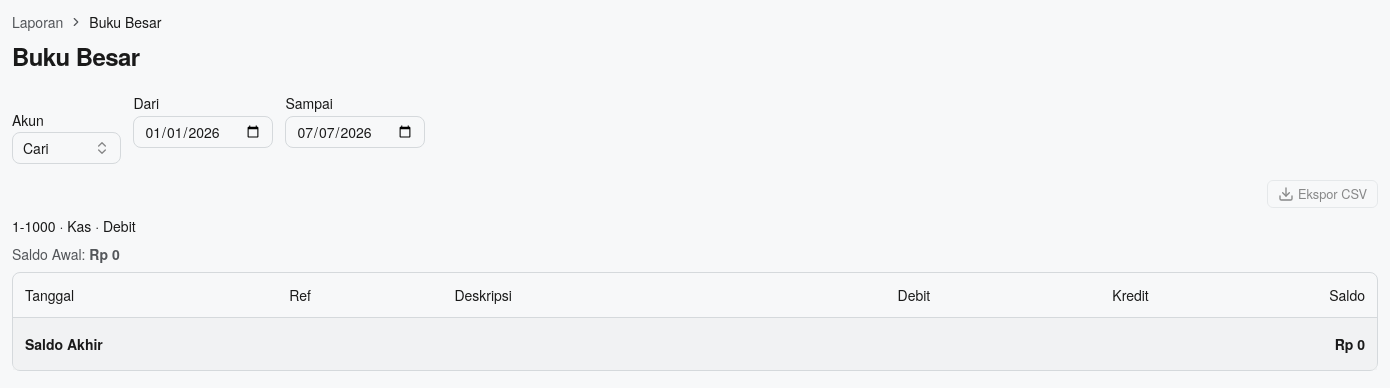
Test case: blocks spans over 366 days with a specific hint and no request
This screenshot has width=1390, height=388.
Expected: the text "Saldo Akhir" is shown, [13,317,1161,370]
Type "2024-01-01" into the date field labelled "Dari" at (204, 132), box [134,116,274,148]
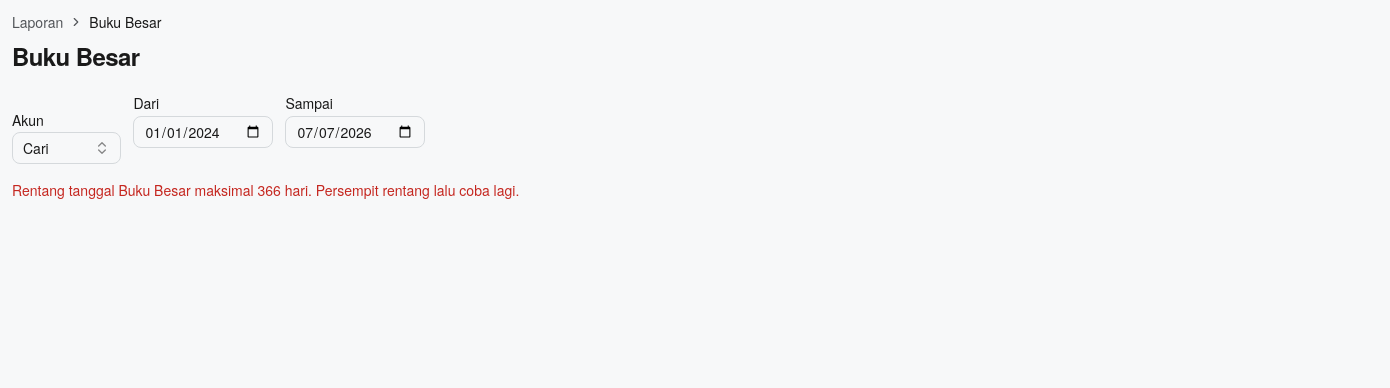
Expected: the text "maksimal 366 hari" is shown, [12,180,519,200]
